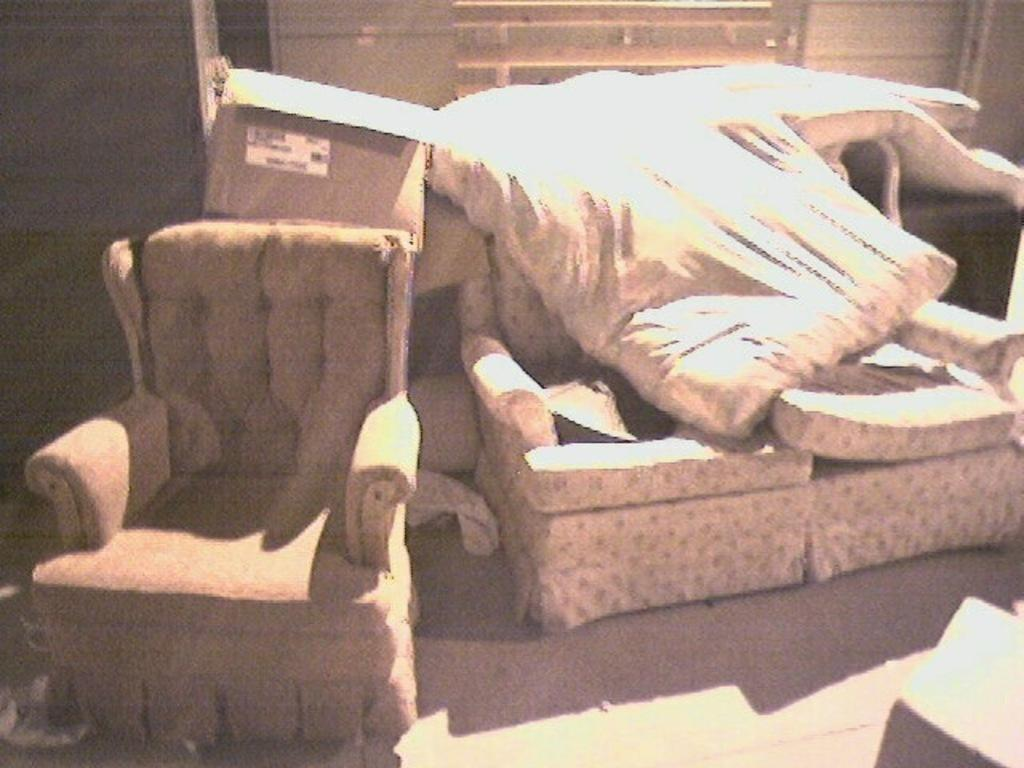Chair: (35, 240, 430, 707)
